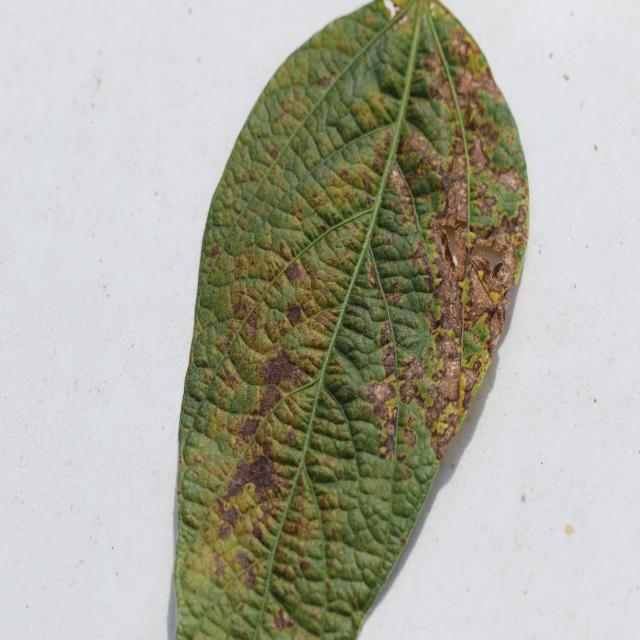Bacterial_Blight: (245, 331, 356, 629), (415, 28, 484, 432), (248, 173, 393, 329), (360, 5, 429, 292), (419, 6, 465, 187)
Soybean: (175, 2, 529, 640)
